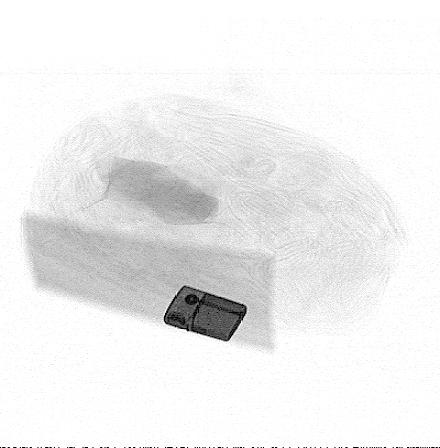Lighter: (163, 284, 247, 342)
